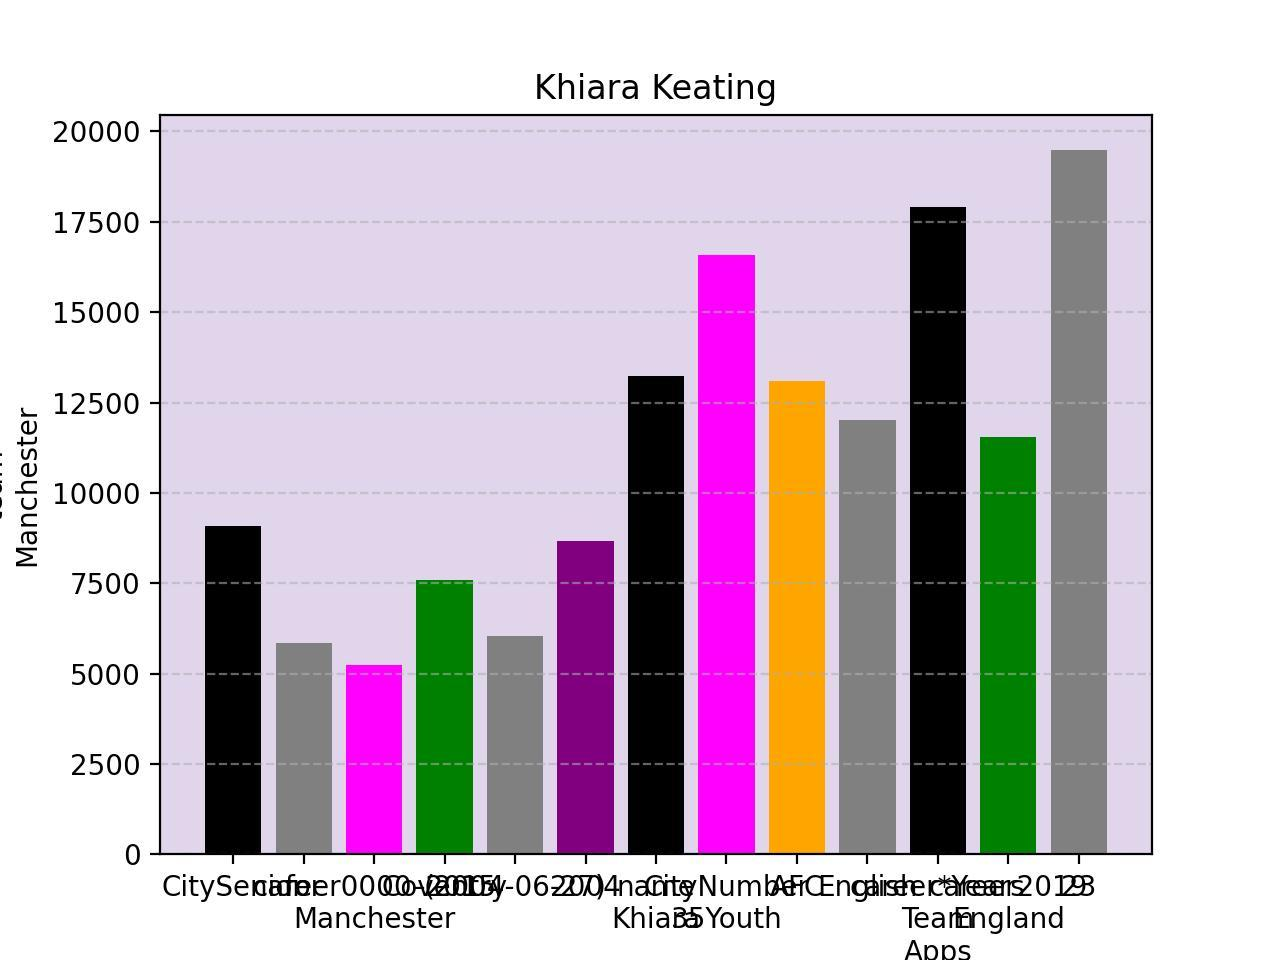axis: (0, 121, 141, 872)
rectangle: (1050, 151, 1106, 854), (910, 207, 966, 854), (699, 255, 754, 854), (628, 376, 684, 854), (769, 382, 825, 854), (840, 420, 896, 854), (980, 436, 1036, 854), (206, 526, 262, 854), (558, 541, 614, 854), (417, 580, 472, 854), (487, 636, 543, 854), (276, 644, 332, 854), (346, 665, 402, 854)
